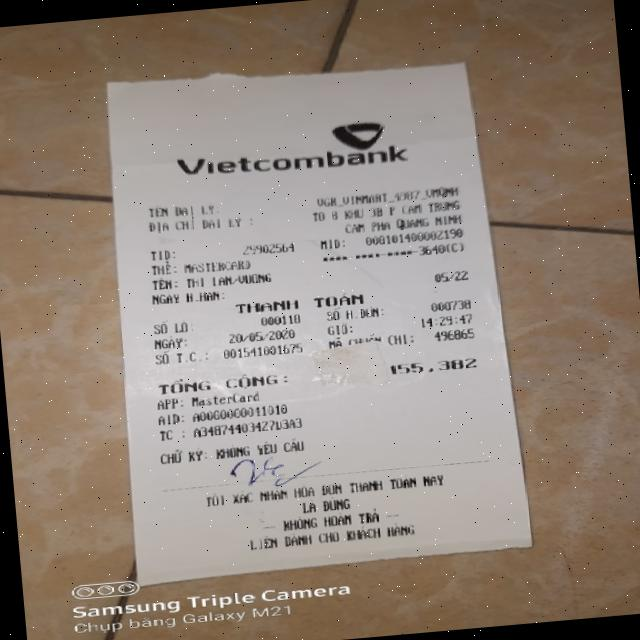Date: (226, 327, 298, 345)
Store_Name: (172, 136, 408, 188)
amount_number: (385, 354, 480, 379)
label_total: (152, 370, 281, 397)
